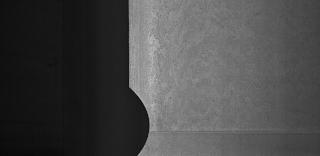silk spot: (146, 5, 300, 121)
welding line: (146, 126, 320, 138)
